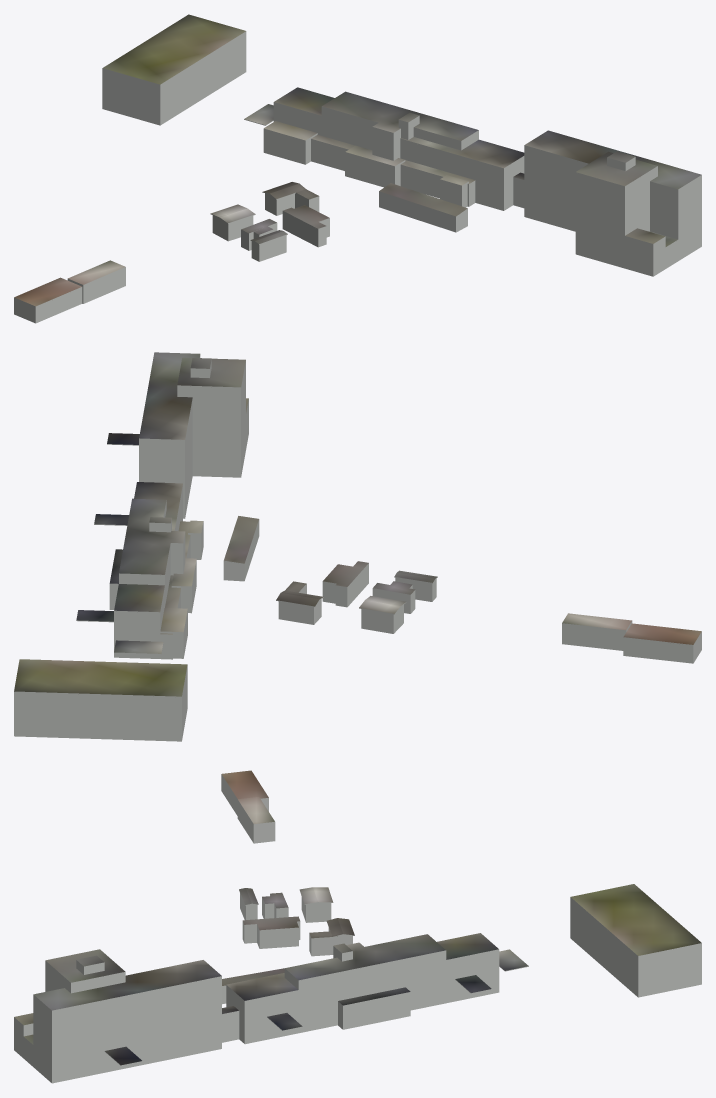
Rendered from LSZH_0_-4.glb.
3 views of the same model, one above another, from view 1: azimuth 30°, elevation 25°; view 2: azimuth 150°, elevation 25°; view 3: azimuth 270°, elevation 25° (orthographic). The views are drawn at different scales.
Visible parts, largest first — view 1: building_34fddf25f2a25ac0, building_cfd3e2f853159489, building_2b42fa295f270419, building_f5222c961860d807, building_8913e1a7bb49018b, building_6db6db67ff02befb; view 2: building_cfd3e2f853159489, building_34fddf25f2a25ac0, building_2b42fa295f270419, building_f5222c961860d807, building_8913e1a7bb49018b, building_6db6db67ff02befb; view 3: building_34fddf25f2a25ac0, building_cfd3e2f853159489, building_2b42fa295f270419, building_8913e1a7bb49018b, building_f5222c961860d807, building_6db6db67ff02befb.
Part boxes in pixels (bbox=[...]): building_34fddf25f2a25ac0: bbox=[263, 103, 701, 276]; building_cfd3e2f853159489: bbox=[244, 87, 701, 247]; building_2b42fa295f270419: bbox=[102, 32, 246, 125]; building_f5222c961860d807: bbox=[14, 193, 329, 323]; building_8913e1a7bb49018b: bbox=[102, 14, 246, 85]; building_6db6db67ff02befb: bbox=[14, 182, 329, 306]; building_cfd3e2f853159489: bbox=[76, 352, 259, 654]; building_34fddf25f2a25ac0: bbox=[109, 356, 259, 659]; building_2b42fa295f270419: bbox=[14, 665, 187, 741]; building_f5222c961860d807: bbox=[278, 564, 701, 663]; building_8913e1a7bb49018b: bbox=[14, 659, 187, 697]; building_6db6db67ff02befb: bbox=[276, 561, 701, 645]; building_34fddf25f2a25ac0: bbox=[14, 947, 499, 1083]; building_cfd3e2f853159489: bbox=[14, 933, 528, 1065]; building_2b42fa295f270419: bbox=[570, 898, 701, 997]; building_8913e1a7bb49018b: bbox=[570, 884, 701, 956]; building_f5222c961860d807: bbox=[221, 775, 352, 956]; building_6db6db67ff02befb: bbox=[221, 770, 354, 938].
Size of the model in its own units: 197 by 28.66 by 194.
2 materials, 1 textured.
